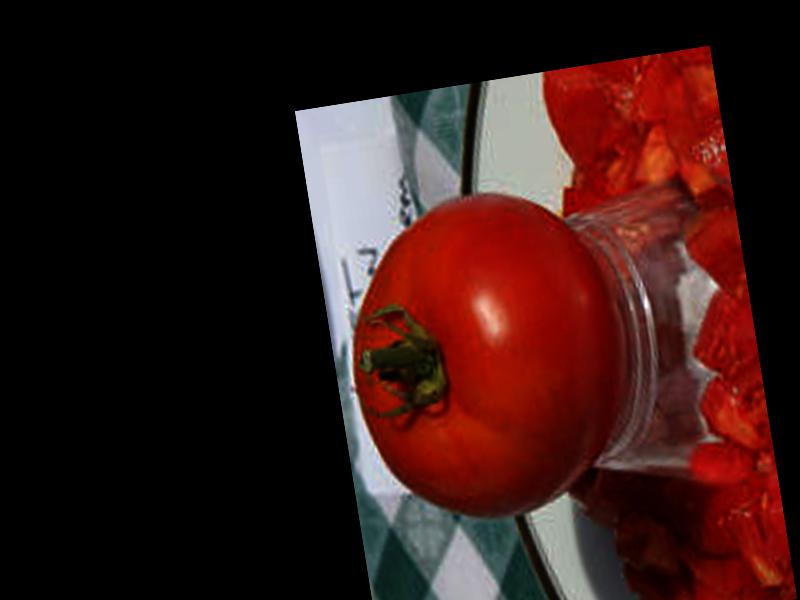Tomato: (326, 173, 642, 538)
